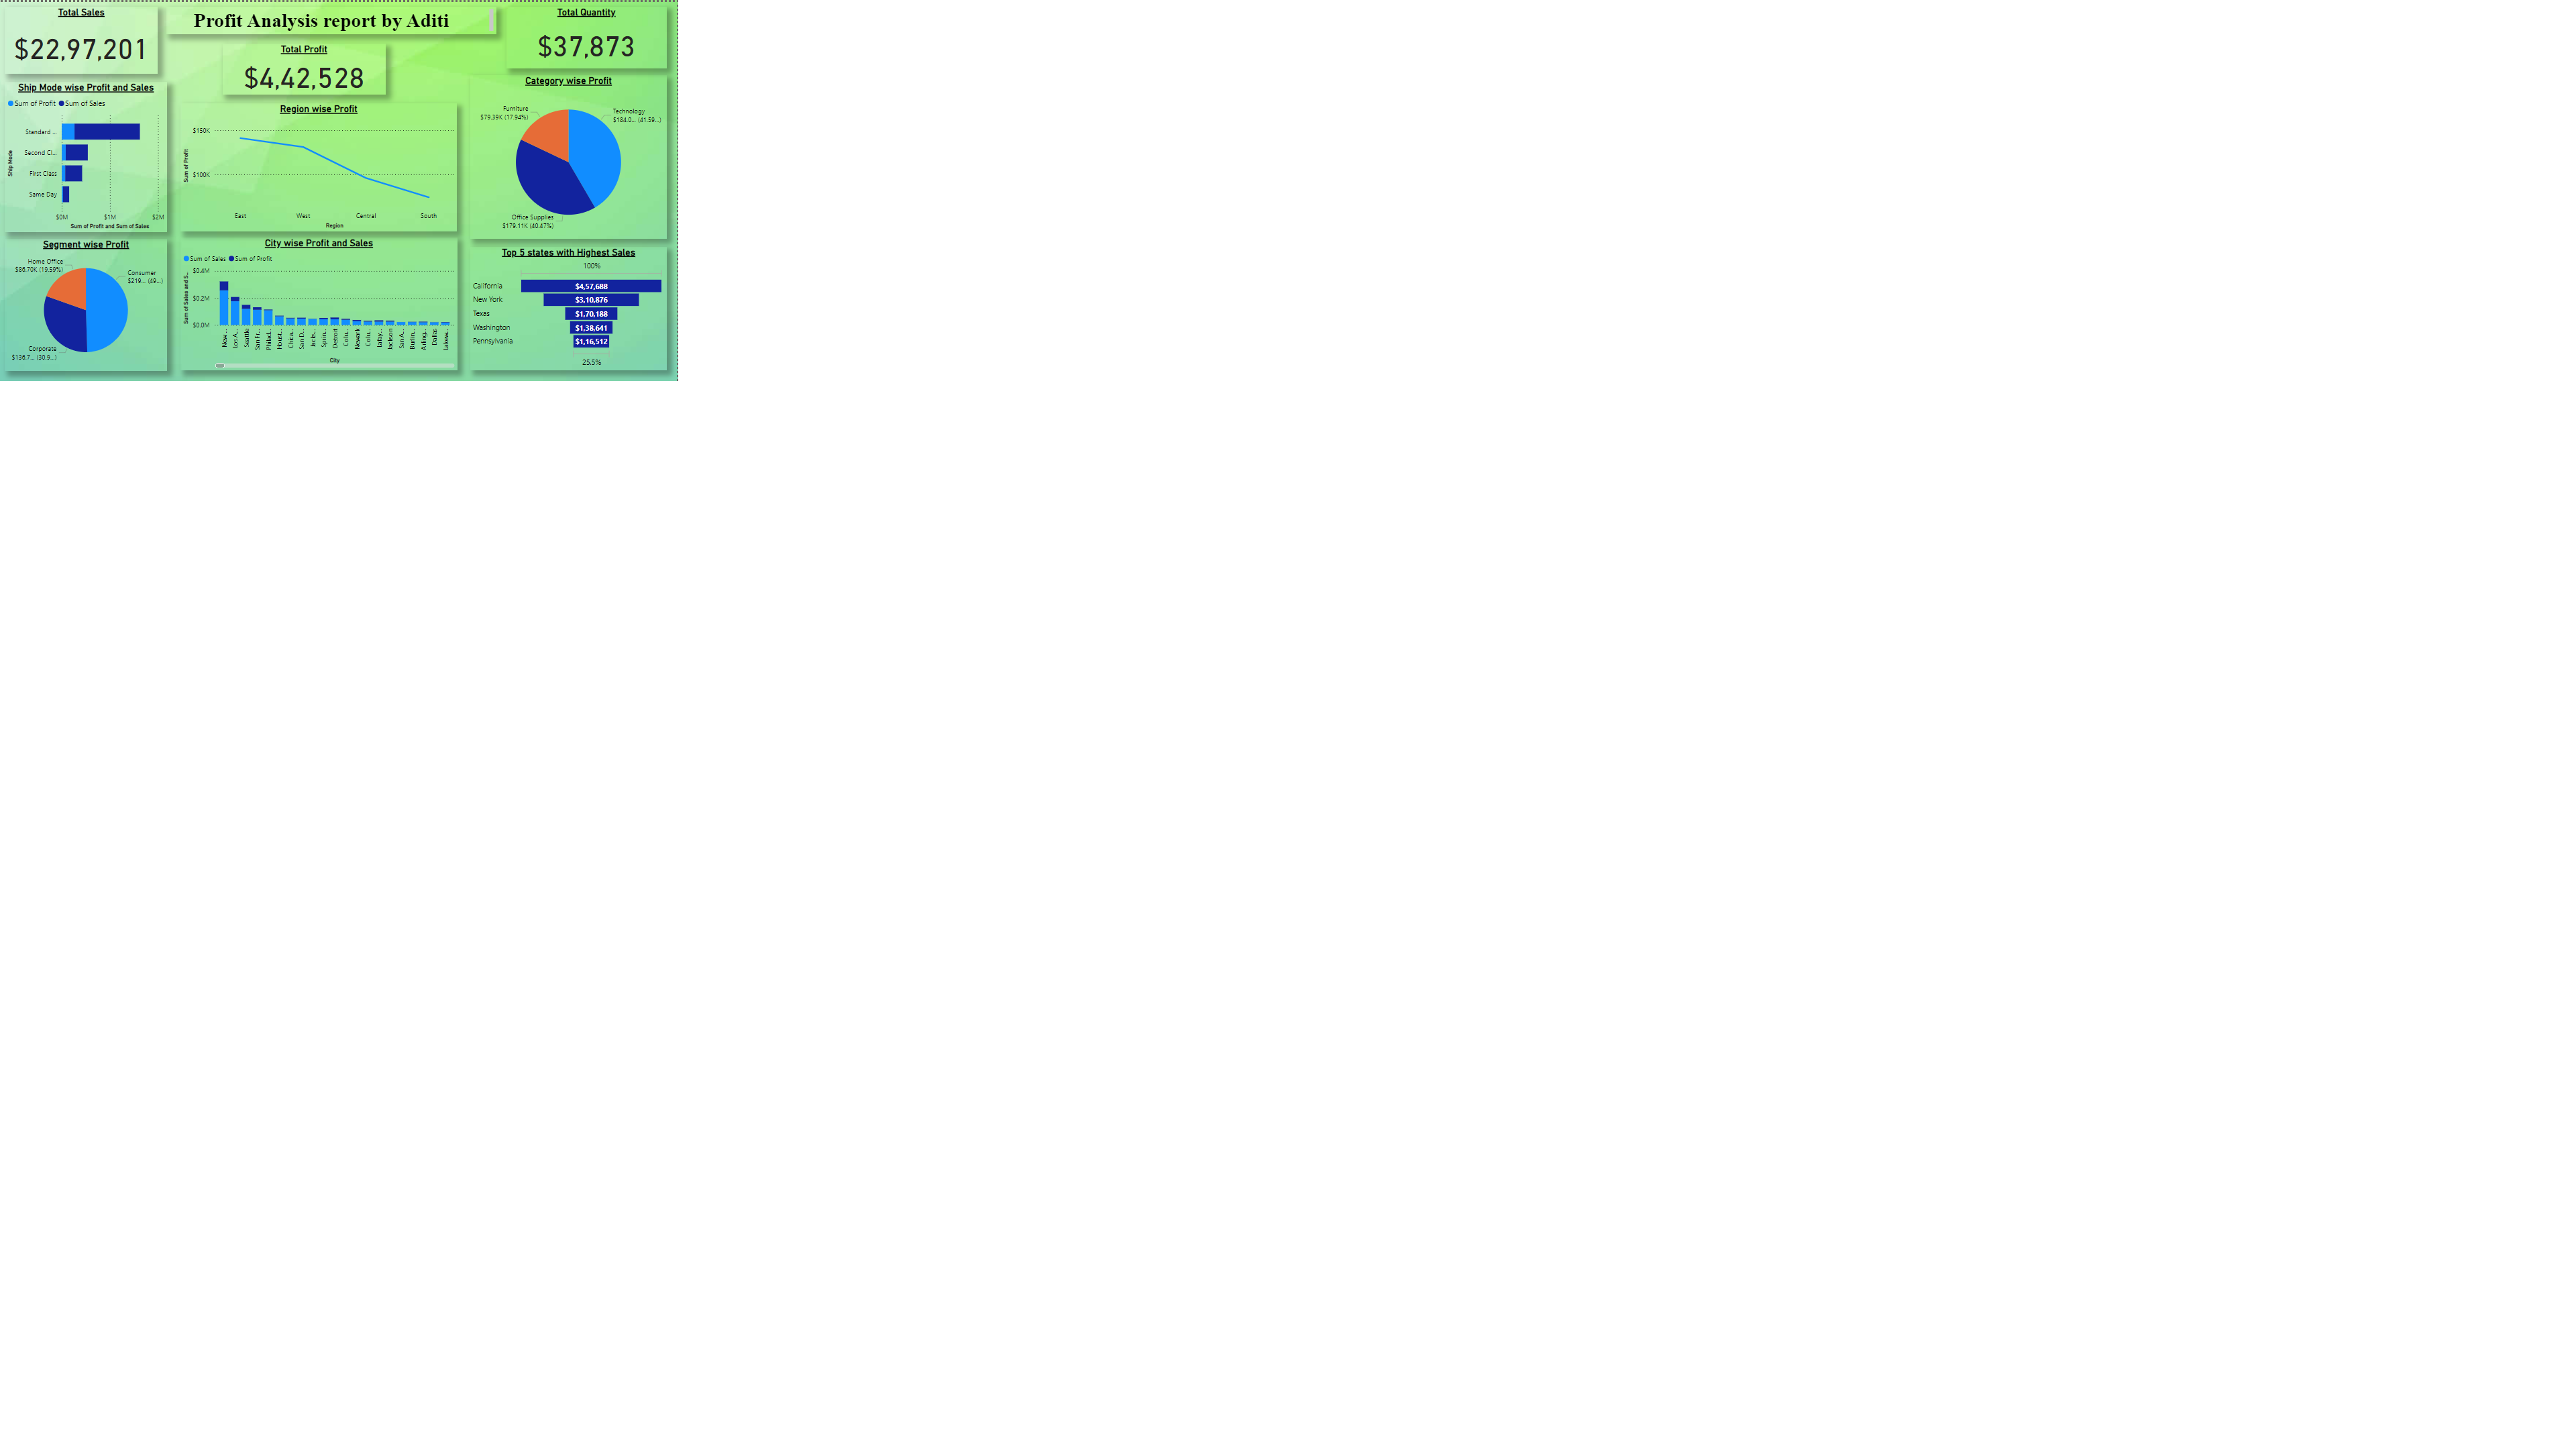

This screenshot's page, from the dashboard's own definition file:
{"tool":"powerbi","page":{"name":"Page 1","canvas":[1280,720],"ordinal":0},"visuals":[{"type":"card","title":"Total Sales","fields":{"Values":["Sheet1.Sales"]},"box":[10.1,8.9,288.6,126.6],"z":0},{"type":"card","title":"Total  Quantity","fields":{"Values":["Sheet1.Quantity"]},"box":[958.3,8.3,302.1,116.7],"z":1000},{"type":"pieChart","title":"Segment wise Profit","fields":{"Y":["Sheet1.Profit"],"Category":["Sheet1.Segment"]},"box":[10.4,445.8,306.2,250],"z":2000},{"type":"pieChart","title":"Category wise Profit","fields":{"Y":["Sheet1.Profit"],"Category":["Sheet1.Category"]},"box":[889.6,137.5,370.8,308.3],"z":3000},{"type":"lineChart","title":"Region wise Profit","fields":{"Category":["Sheet1.Region"],"Y":["Sheet1.Profit"]},"box":[341.7,191.7,520.8,241.7],"z":4000},{"type":"columnChart","title":"City wise Profit and Sales ","fields":{"Category":["Sheet1.City"],"Y":["Sheet1.Sales","Sheet1.Profit"]},"box":[341.8,445.5,521.8,250.9],"z":5000},{"type":"barChart","title":"Ship Mode wise Profit and Sales","fields":{"Y":["Sheet1.Profit","Sheet1.Sales"],"Category":["Sheet1.Ship Mode"]},"box":[10.4,150,306.2,283.3],"z":6000},{"type":"funnel","title":"Top 5 states with Highest Sales ","fields":{"Category":["Sheet1.State"],"Y":["Sheet1.Sales"]},"box":[889.6,462.5,370.8,233.3],"z":7000},{"type":"card","title":"Total Profit","fields":{"Values":["Sheet1.Profit"]},"box":[420.8,79.2,308.3,95.8],"z":8000},{"type":"textbox","box":[314.6,8.3,622.9,52.1],"z":10000}]}

Visuals, with their boxes in screenshot pixels (x1, y1, x2, y2), scaled from the page's 1280x720 canvas onto the 2576x1449 screenshot:
"Total Sales" card: (20, 18, 601, 272)
"Total  Quantity" card: (1929, 17, 2536, 252)
"Segment wise Profit" pieChart: (21, 897, 637, 1400)
"Category wise Profit" pieChart: (1790, 276, 2536, 897)
"Region wise Profit" lineChart: (688, 386, 1736, 872)
"City wise Profit and Sales " columnChart: (688, 896, 1738, 1401)
"Ship Mode wise Profit and Sales" barChart: (21, 302, 637, 872)
"Top 5 states with Highest Sales " funnel: (1790, 931, 2536, 1400)
"Total Profit" card: (847, 160, 1467, 352)
textbox: (633, 17, 1886, 121)
